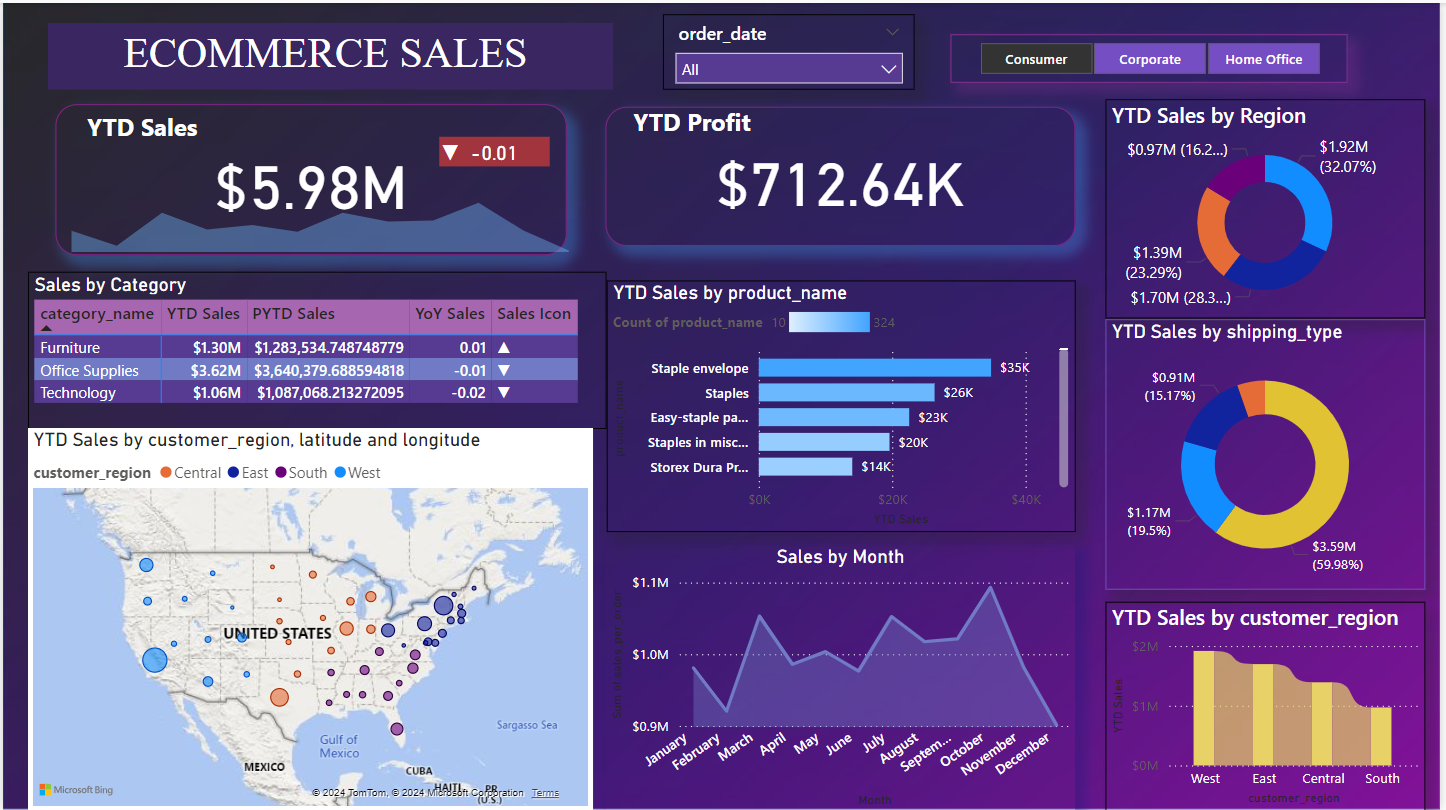

The dashboard page shown, as its layout file describes it:
{"tool":"powerbi","page":{"name":"Page 1","canvas":[1280,720],"ordinal":0},"visuals":[{"type":"card","fields":{"Values":["ecommerce_data.YoY Sales"]},"box":[388.6,119.3,98.2,26.1],"z":0,"group":"g5"},{"type":"card","fields":{"Values":["ecommerce_data.Sales Icon"]},"box":[358.4,119.3,80.1,26.1],"z":1000,"group":"g5"},{"type":"group","id":"g1","title":"Group 3","box":[39.8,90.5,485,136.3],"z":2000},{"type":"group","id":"g2","title":"Group 1","box":[39.8,90.5,485.1,136.5],"z":2000,"group":"g1"},{"type":"card","fields":{"Values":["ecommerce_data.YTD Sales"]},"box":[46.4,90.5,454.9,134.5],"z":2000,"group":"g2"},{"type":"group","id":"g3","title":"Group 1","box":[536.9,92.3,418.2,124],"z":2000,"group":"g4"},{"type":"card","fields":{"Values":["ecommerce_data.YTD Profit"]},"box":[536.9,92.3,418.2,124],"z":2000,"group":"g3"},{"type":"group","id":"g4","title":"Group 3","box":[536.9,85.7,417.4,130.3],"z":3000},{"type":"group","id":"g5","title":"Group 2","box":[358.4,119.3,128.5,26.1],"z":3000,"group":"g1"},{"type":"areaChart","fields":{"Category":["Calendar.Month"],"Y":["Sum(ecommerce_data.sales_per_order)"]},"box":[39.8,162.5,485.1,64.5],"z":3000,"group":"g2"},{"type":"textbox","box":[556.9,85.7,191.9,43.9],"z":4000,"group":"g4"},{"type":"textbox","box":[69.8,90.5,128.5,39.8],"z":4000,"group":"g1"},{"type":"pivotTable","title":"Sales by Category","fields":{"Rows":["ecommerce_data.category_name"],"Values":["ecommerce_data.YTD Sales","ecommerce_data.PYTD Sales","ecommerce_data.YoY Sales","ecommerce_data.Sales Icon"]},"box":[21.7,238.9,515.2,139.9],"z":4000},{"type":"map","fields":{"Y":["us_state_long_lat_codes.latitude"],"X":["us_state_long_lat_codes.longitude"],"Size":["ecommerce_data.YTD Sales"],"Series":["ecommerce_data.customer_region"]},"box":[21.7,378.8,503.1,341.4],"z":5000},{"type":"barChart","fields":{"Category":["ecommerce_data.product_name"],"Y":["ecommerce_data.YTD Sales"]},"box":[538.1,247.3,417.4,224.4],"z":6000},{"type":"donutChart","title":"YTD Sales by Region","fields":{"Category":["ecommerce_data.customer_region"],"Y":["ecommerce_data.YTD Sales"]},"box":[982,85.7,284.7,195.4],"z":7000},{"type":"slicer","fields":{"Values":["ecommerce_data.customer_segment"]},"box":[843.3,27.7,353.5,43.4],"z":8000},{"type":"donutChart","fields":{"Category":["ecommerce_data.shipping_type"],"Y":["ecommerce_data.YTD Sales"]},"box":[981.8,281.6,285,240.4],"z":9000},{"type":"slicer","fields":{"Values":["ecommerce_data.order_date"]},"box":[587.5,9.7,224.4,67.6],"z":10000},{"type":"ribbonChart","fields":{"Category":["ecommerce_data.customer_region"],"Y":["ecommerce_data.YTD Sales"]},"box":[982,533.2,284.7,187],"z":11000},{"type":"lineChart","title":"Sales by Month","fields":{"Y":["Sum(ecommerce_data.sales_per_order)"],"Category":["Calendar.Month"]},"box":[536.9,482.6,418.6,237.7],"z":12000},{"type":"textbox","box":[39.8,18.1,503.1,59.1],"z":12001}]}

Visuals, with their boxes in screenshot pixels (x1, y1, x2, y2), scaled from the page's 1280x720 canvas onto the 1446x810 screenshot:
card - ecommerce_data.YoY Sales: (439,134,550,164)
card - ecommerce_data.Sales Icon: (405,134,495,164)
"Group 3" group: (45,102,593,255)
"Group 1" group: (45,102,593,255)
card - ecommerce_data.YTD Sales: (52,102,566,253)
"Group 1" group: (607,104,1079,243)
card - ecommerce_data.YTD Profit: (607,104,1079,243)
"Group 3" group: (607,96,1078,243)
"Group 2" group: (405,134,550,164)
areaChart - Calendar.Month x Sum(ecommerce_data.sales_per_order): (45,183,593,255)
textbox: (629,96,846,146)
textbox: (79,102,224,147)
"Sales by Category" pivotTable: (25,269,607,426)
map - us_state_long_lat_codes.latitude x us_state_long_lat_codes.longitude: (25,426,593,809)
barChart - ecommerce_data.product_name x ecommerce_data.YTD Sales: (608,278,1079,531)
"YTD Sales by Region" donutChart: (1109,96,1431,316)
slicer - ecommerce_data.customer_segment: (953,31,1352,80)
donutChart - ecommerce_data.shipping_type x ecommerce_data.YTD Sales: (1109,317,1431,587)
slicer - ecommerce_data.order_date: (664,11,917,87)
ribbonChart - ecommerce_data.customer_region x ecommerce_data.YTD Sales: (1109,600,1431,809)
"Sales by Month" lineChart: (607,543,1079,809)
textbox: (45,20,613,87)
